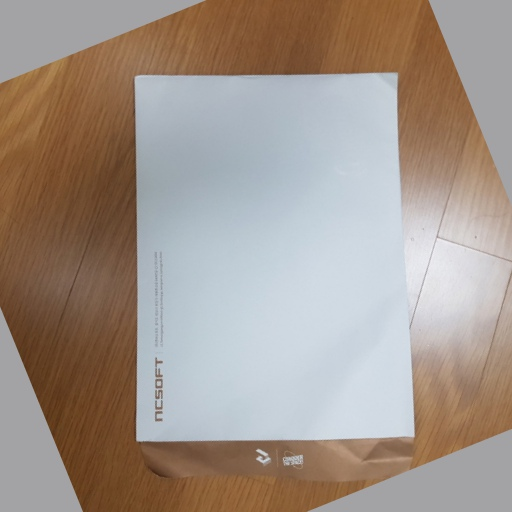Paper_2: (127, 65, 420, 490)
